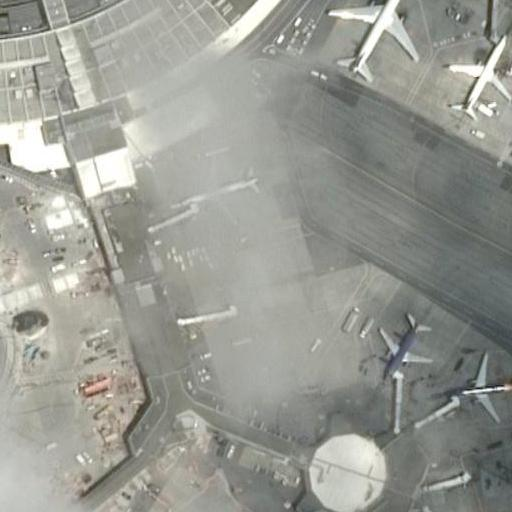Aircraft: (326, 0, 426, 82), (373, 289, 443, 387), (444, 29, 512, 122), (449, 346, 512, 417)
